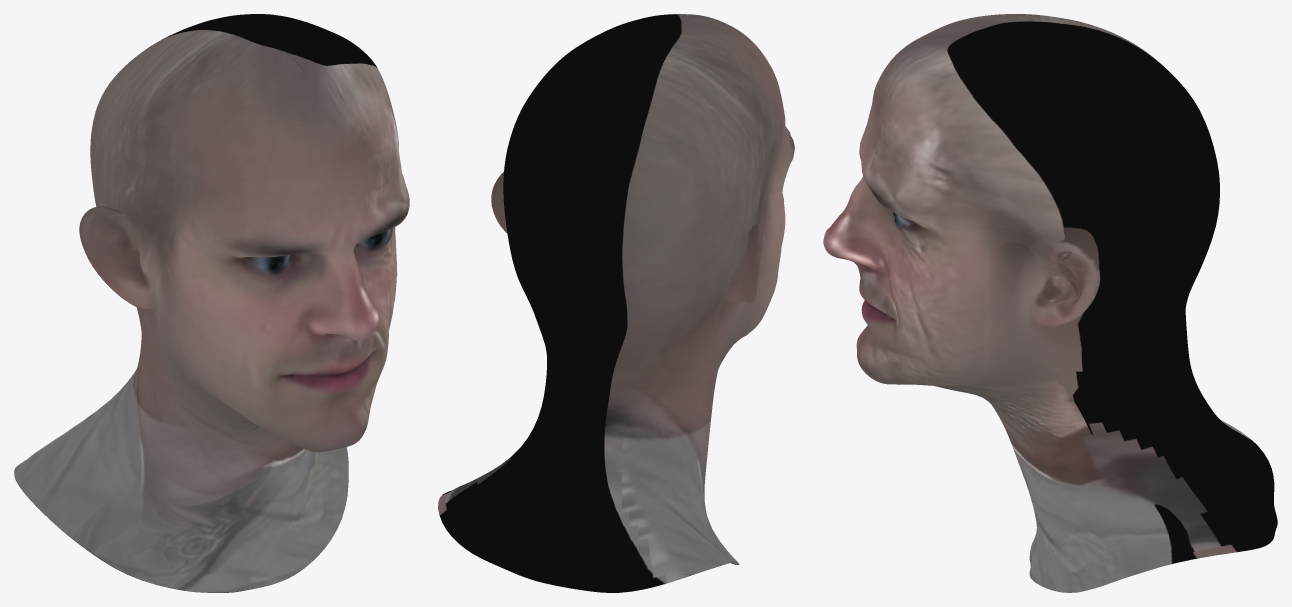
The model's file is doc.glb.
The picture shows the model from 3 angles, left to right: view 1: azimuth 30°, elevation 25°; view 2: azimuth 150°, elevation 25°; view 3: azimuth 270°, elevation 25°; orthographic projection. The views are drawn at different scales.
Parts seen in each view (by area): view 1: FBHead_2; view 2: FBHead_2; view 3: FBHead_2.
Part boxes in pixels (left/top/right/bottom): FBHead_2: left=14, top=14, right=409, bottom=592; FBHead_2: left=438, top=14, right=794, bottom=592; FBHead_2: left=823, top=14, right=1277, bottom=592.
Bounding box in the file's own units: 1.37 × 2.37 × 1.82.
Materials: 1 (1 with a texture image).
